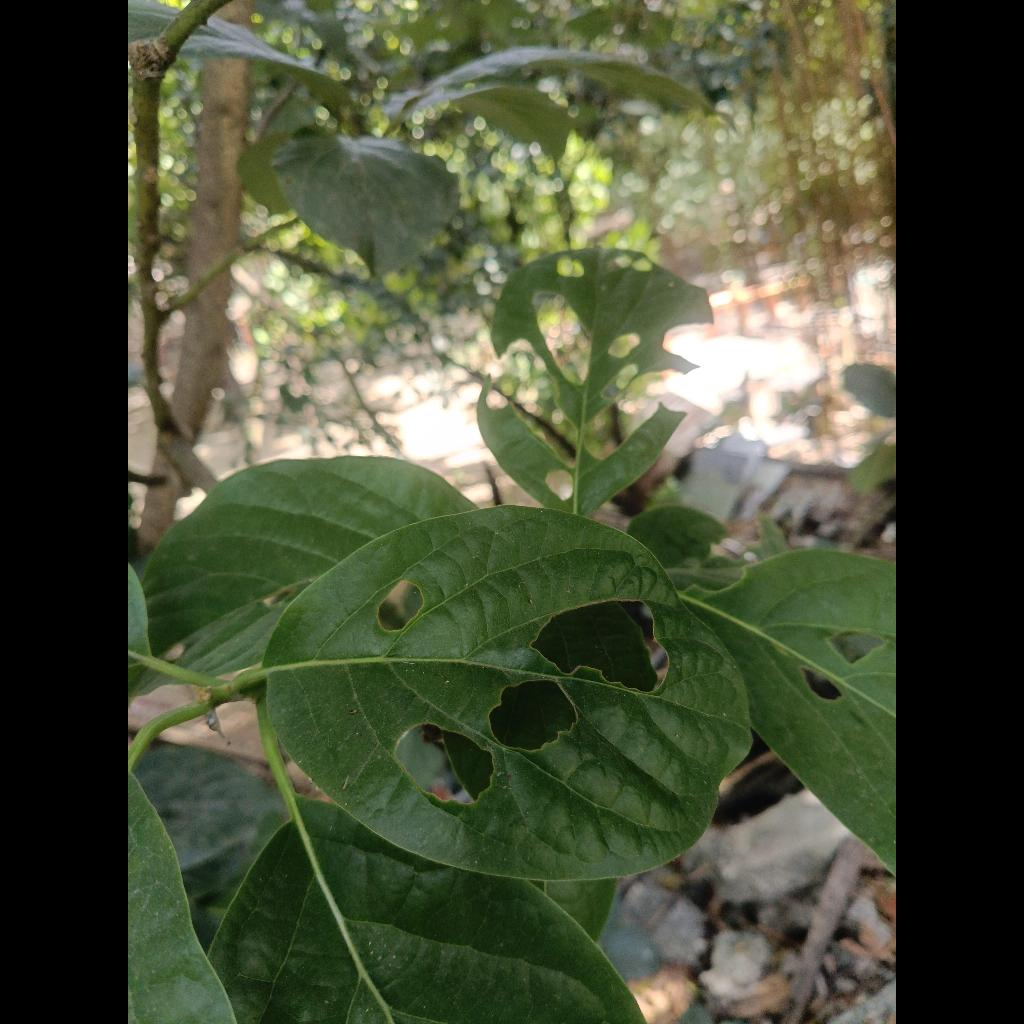Pest Infested: (263, 506, 749, 880)
